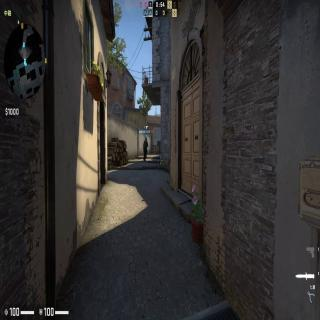CT-Body: (143, 137, 148, 161)
CT-Head: (144, 138, 148, 142)
